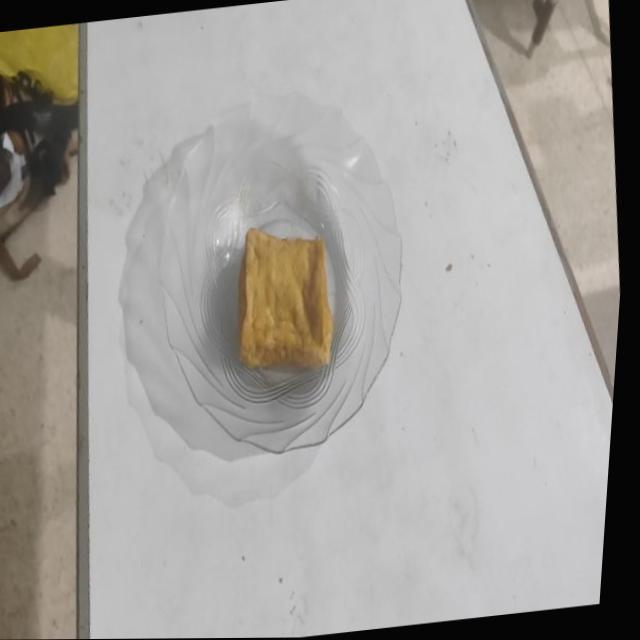tahu_goreng: (238, 228, 333, 368)
